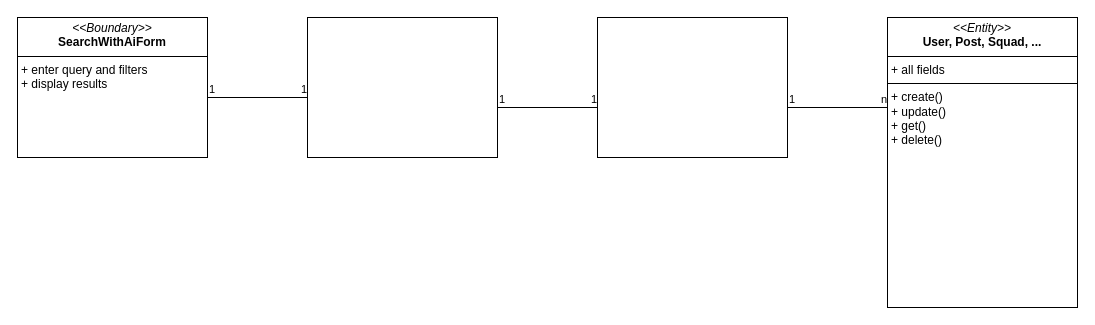
Some shapes in this 1095 by 325 pixel diagram are drawn without their labels. Here are the shapes that lost their labels. From the top down, the centre of each, then its label:
At point (402, 87): "<<Controller>> SearchWithAiController + search results()".
At point (692, 87): "<<Controller>> RegisterController + getResult() + analyze and filter results()".
